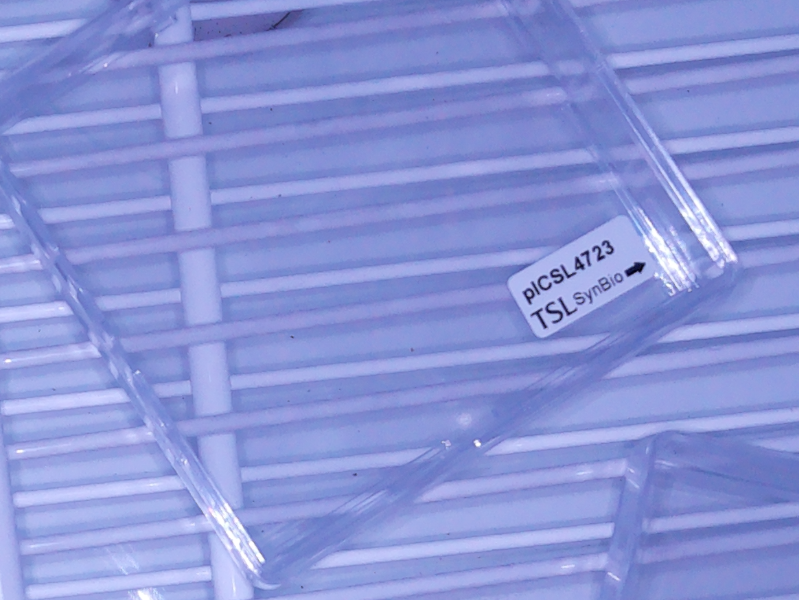plate: (11, 1, 742, 594), (596, 426, 799, 600)
